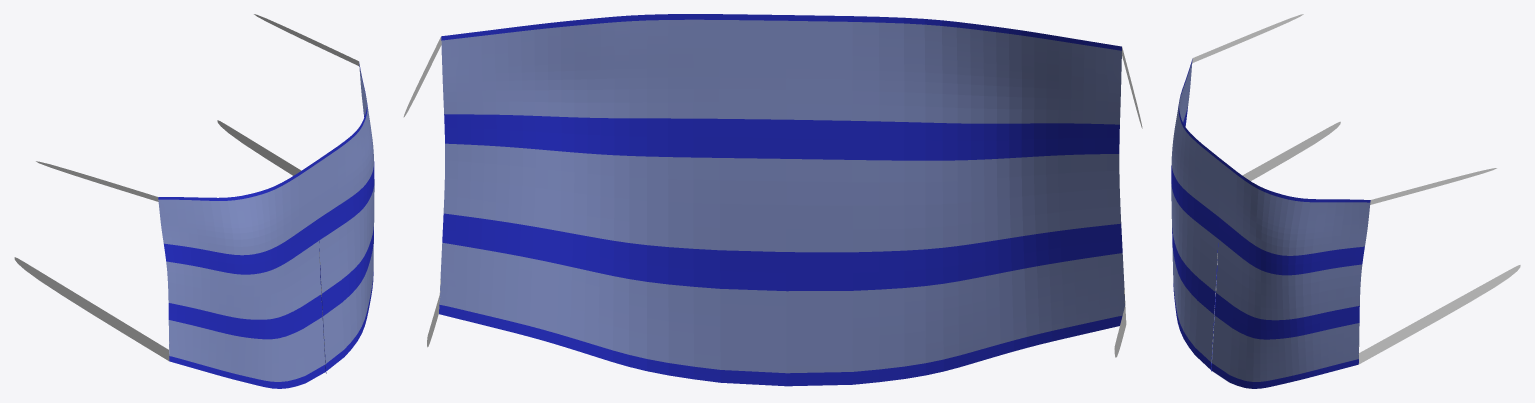
Rendered from mask.fbx.
3 renders of one model, left to right at view 1: azimuth 30°, elevation 25°; view 2: azimuth 150°, elevation 25°; view 3: azimuth 270°, elevation 25°, orthographic. The views are drawn at different scales.
Visible parts, largest first — view 1: Plane; view 2: Plane; view 3: Plane.
Boxes of the visible parts, <box> form: Plane: <box>14,14,374,388</box>; Plane: <box>403,14,1142,386</box>; Plane: <box>1171,14,1520,388</box>.
Bounding box in the file's own units: 378 × 235 × 311.
